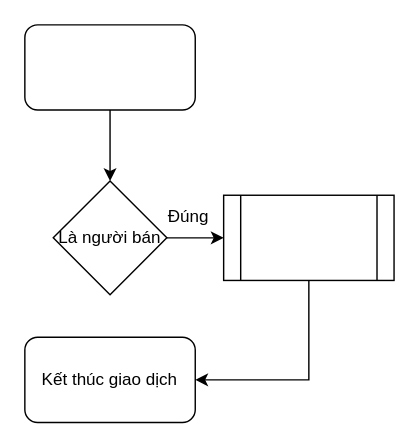
Image size: 419x447. Some labels were removed from this diagram. Each missing label, with the centre of its shape:
"Tiến hành giao dịch" belongs at point (109, 66).
"Đánh dấu hoàn thành giao dịch" belongs at point (308, 237).
